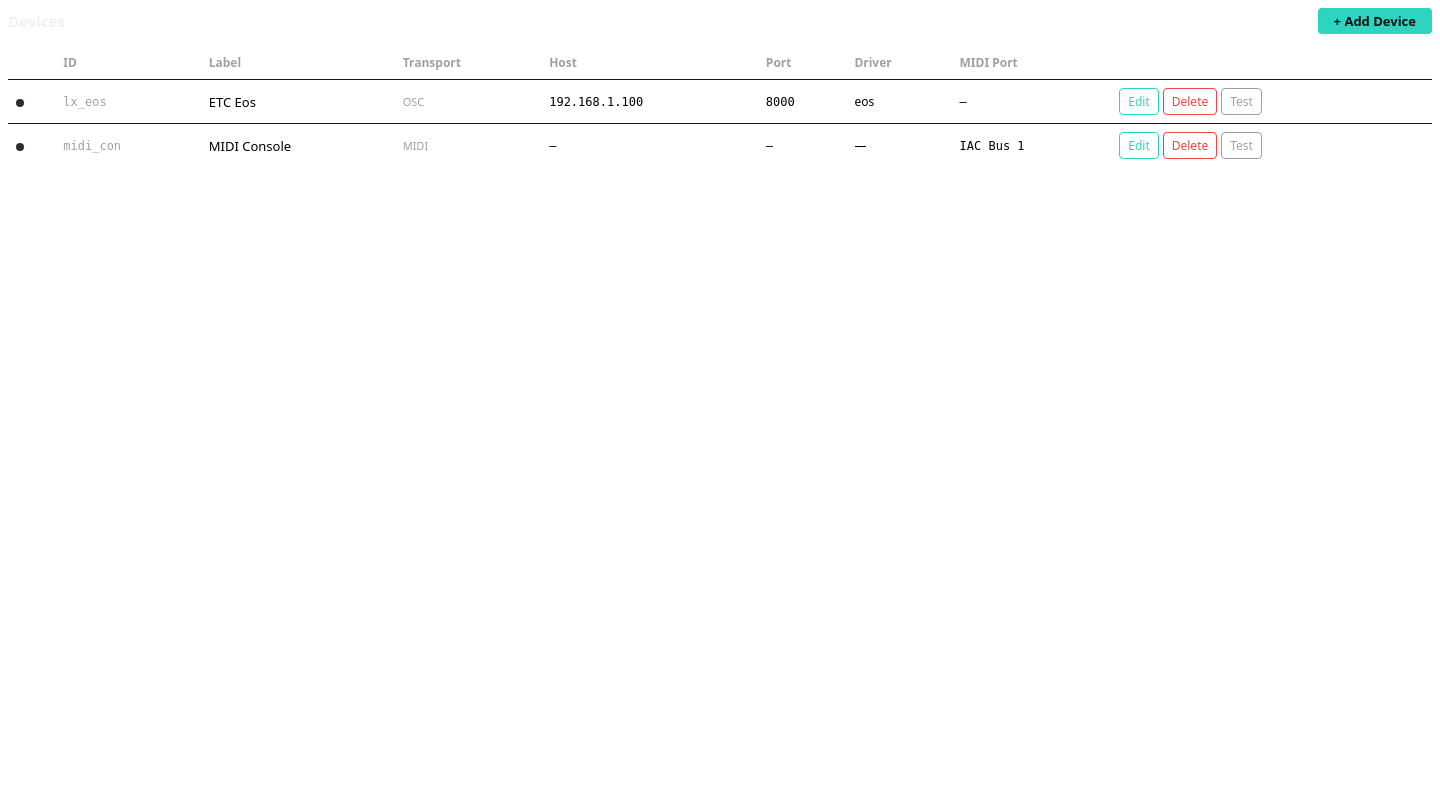
DevicesTable — delete confirmation › clicking Delete shows confirmation dialog
Click the button with aria-label "delete lx_eos". click: (1190, 102)
box: 1163,88 -> 1217,115
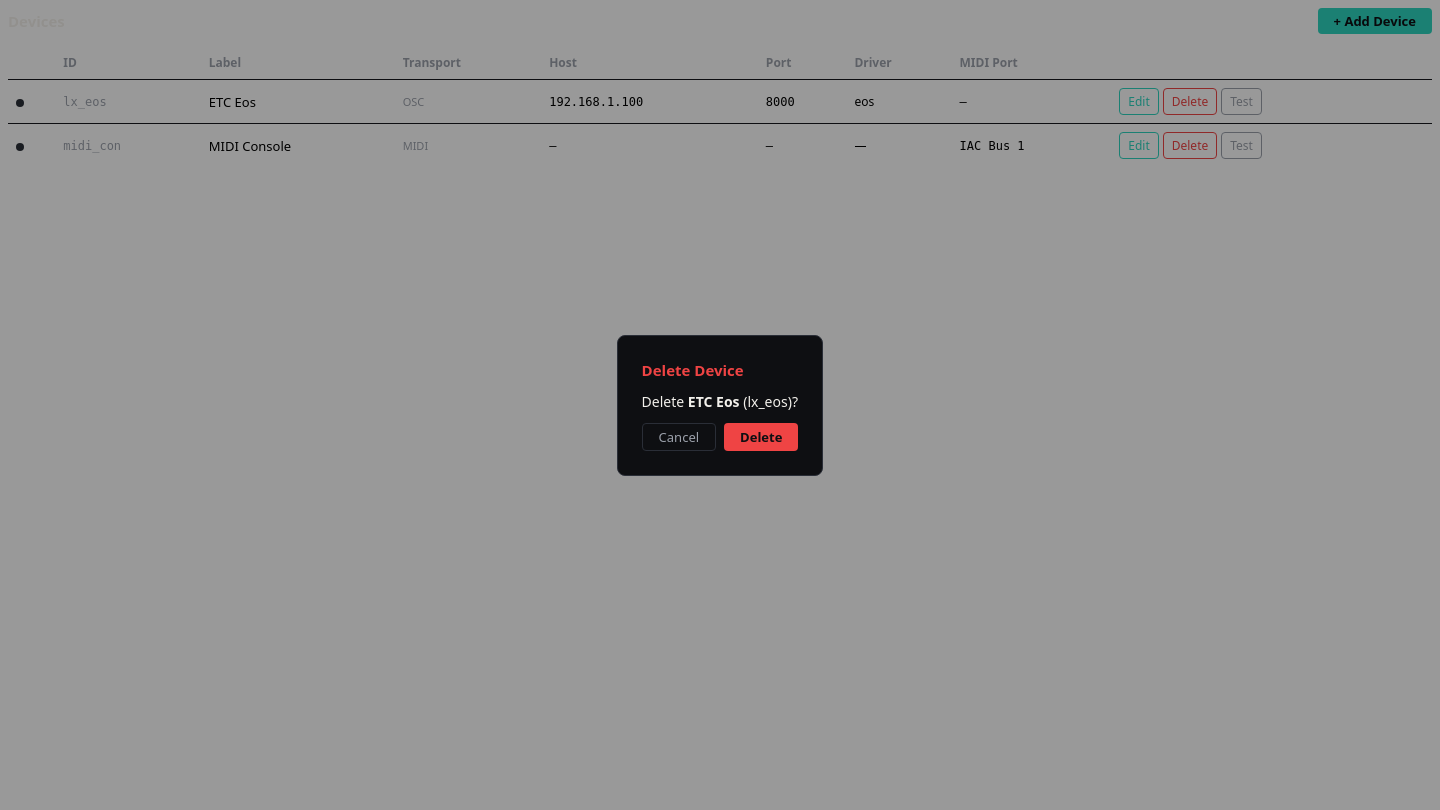
Expected: the dialog named "confirm delete device" is shown
